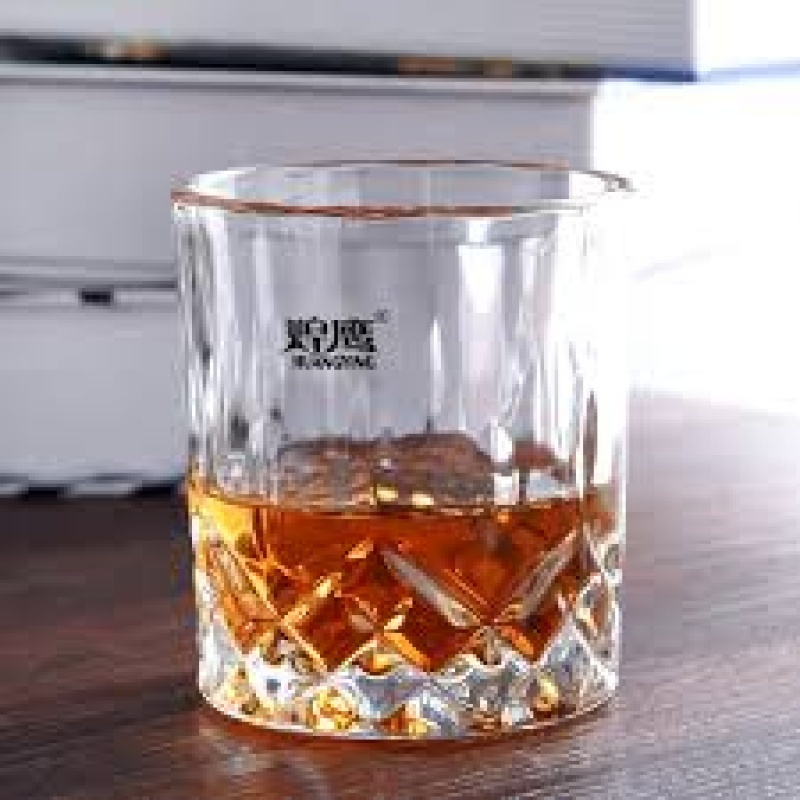whiskey: (175, 160, 622, 716)
